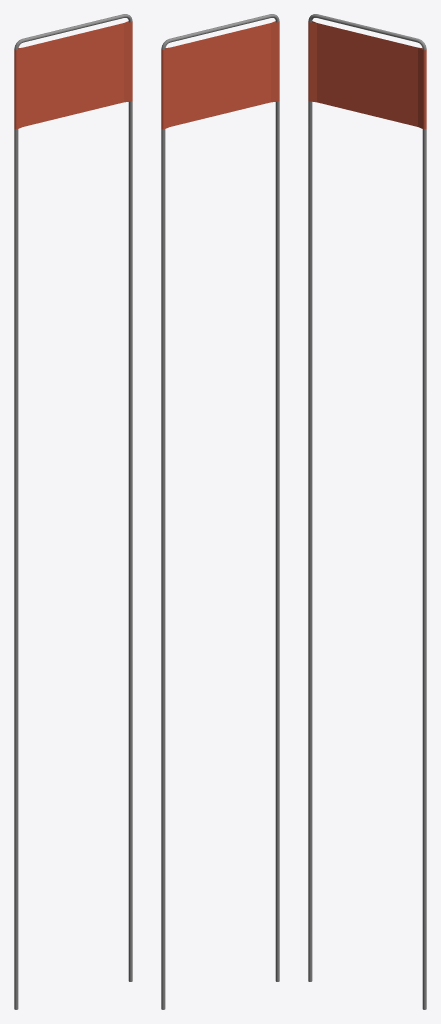
The model's file is marker2_red_LOD0.gltf.
The picture shows the model from 3 angles, left to right: view 1: azimuth 30°, elevation 25°; view 2: azimuth 210°, elevation 25°; view 3: azimuth 330°, elevation 25°; orthographic projection.
Visible parts, largest first — view 1: Loft001; view 2: Loft001; view 3: Loft001.
Part boxes in pixels (box(x1,y1,x2,y2)): Loft001: box(14, 14, 132, 1009); Loft001: box(161, 14, 279, 1009); Loft001: box(308, 14, 426, 1009).
Size of the model in its own units: 0.701 by 5.5 by 0.0216.
